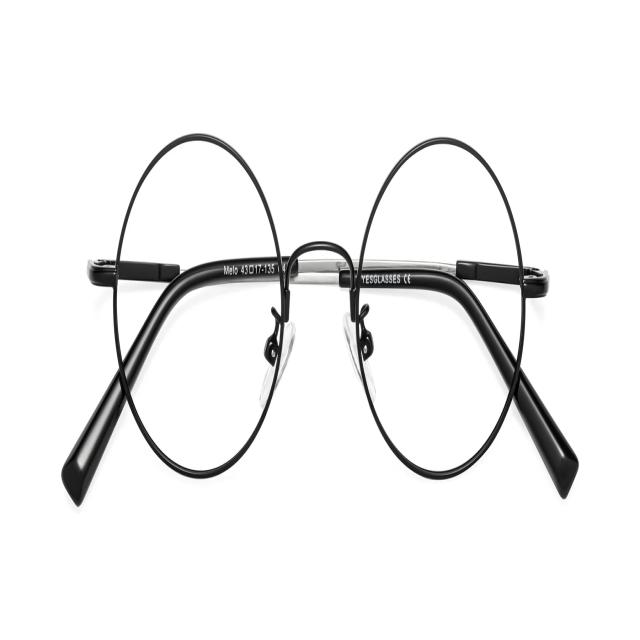glasses: (82, 119, 586, 545)
